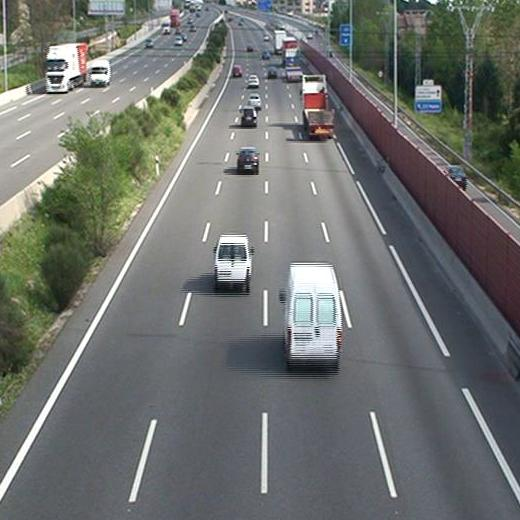car: (237, 149, 260, 172), (242, 107, 258, 128), (247, 93, 261, 107), (231, 66, 243, 78), (266, 66, 278, 78), (249, 75, 260, 88)
truck: (303, 75, 334, 141), (286, 48, 302, 83)
van: (281, 264, 340, 369), (215, 236, 253, 291)
